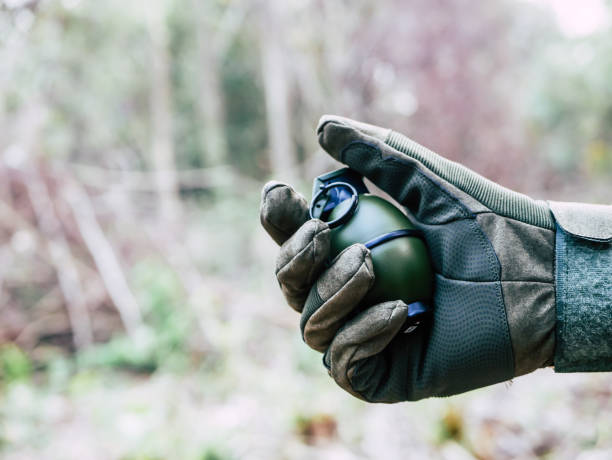e1: (309, 162, 433, 337)
